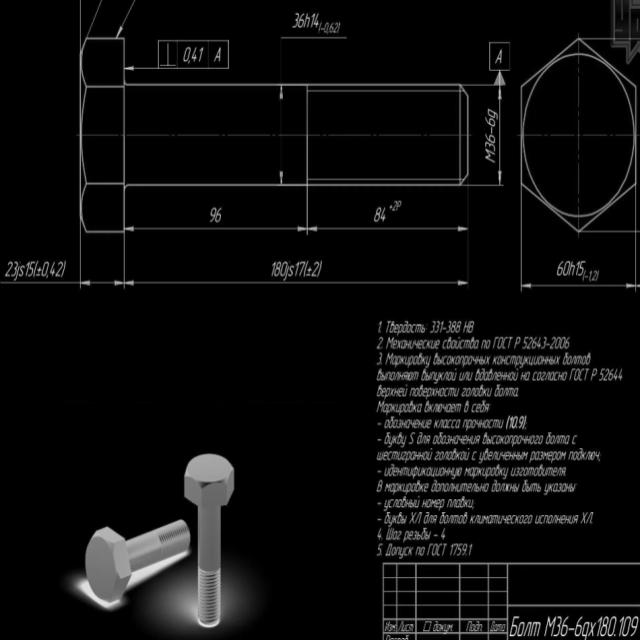marking_line: (126, 279, 468, 287), (311, 224, 468, 235), (125, 225, 306, 233), (116, 2, 142, 37), (127, 66, 227, 72), (83, 275, 124, 288), (498, 87, 503, 185)
numeric: (269, 258, 324, 280), (548, 260, 602, 282), (180, 43, 229, 66), (484, 107, 499, 165), (290, 10, 323, 31), (206, 200, 225, 225), (318, 23, 345, 37), (371, 200, 387, 223), (390, 198, 404, 213), (494, 50, 508, 65)
